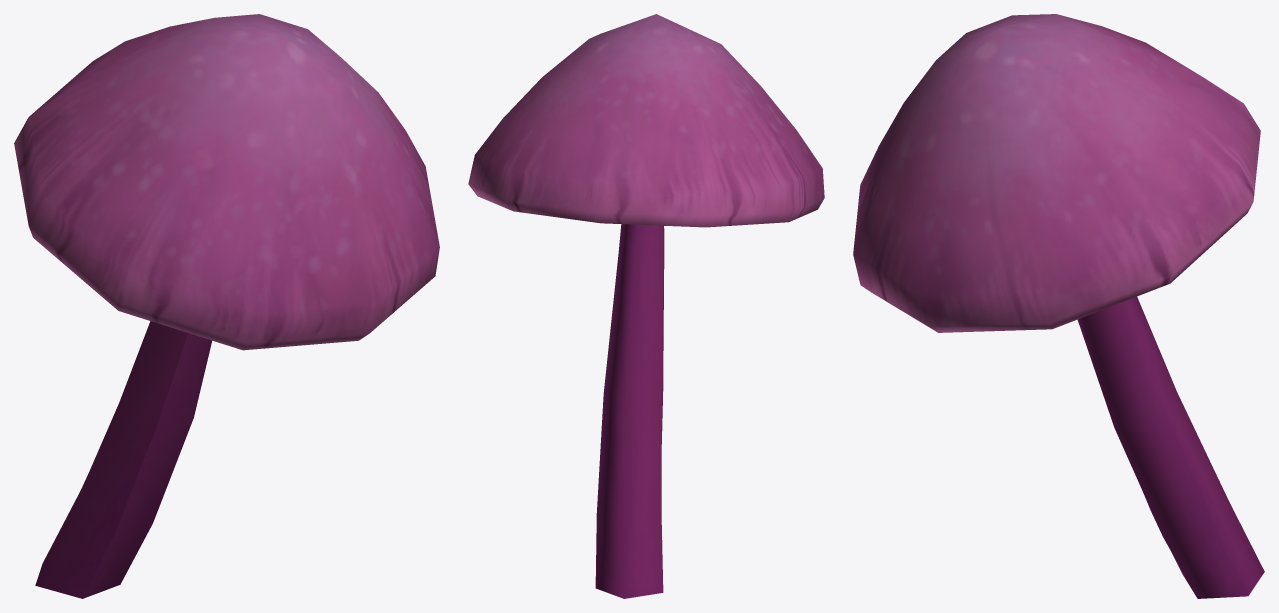
Rendered from SM_Mush_2.fbx.
The picture shows the model from 3 angles, left to right: view 1: azimuth 30°, elevation 25°; view 2: azimuth 150°, elevation 25°; view 3: azimuth 270°, elevation 25°; orthographic projection. The views are drawn at different scales.
Parts seen in each view (by area): view 1: SM_Mush_2; view 2: SM_Mush_2; view 3: SM_Mush_2.
Part boxes in pixels (x1,y1,x2,y2): SM_Mush_2: (14,14,439,598); SM_Mush_2: (468,14,824,598); SM_Mush_2: (853,14,1264,598).
Size of the model in its own units: 11.11 by 17.03 by 10.71.
